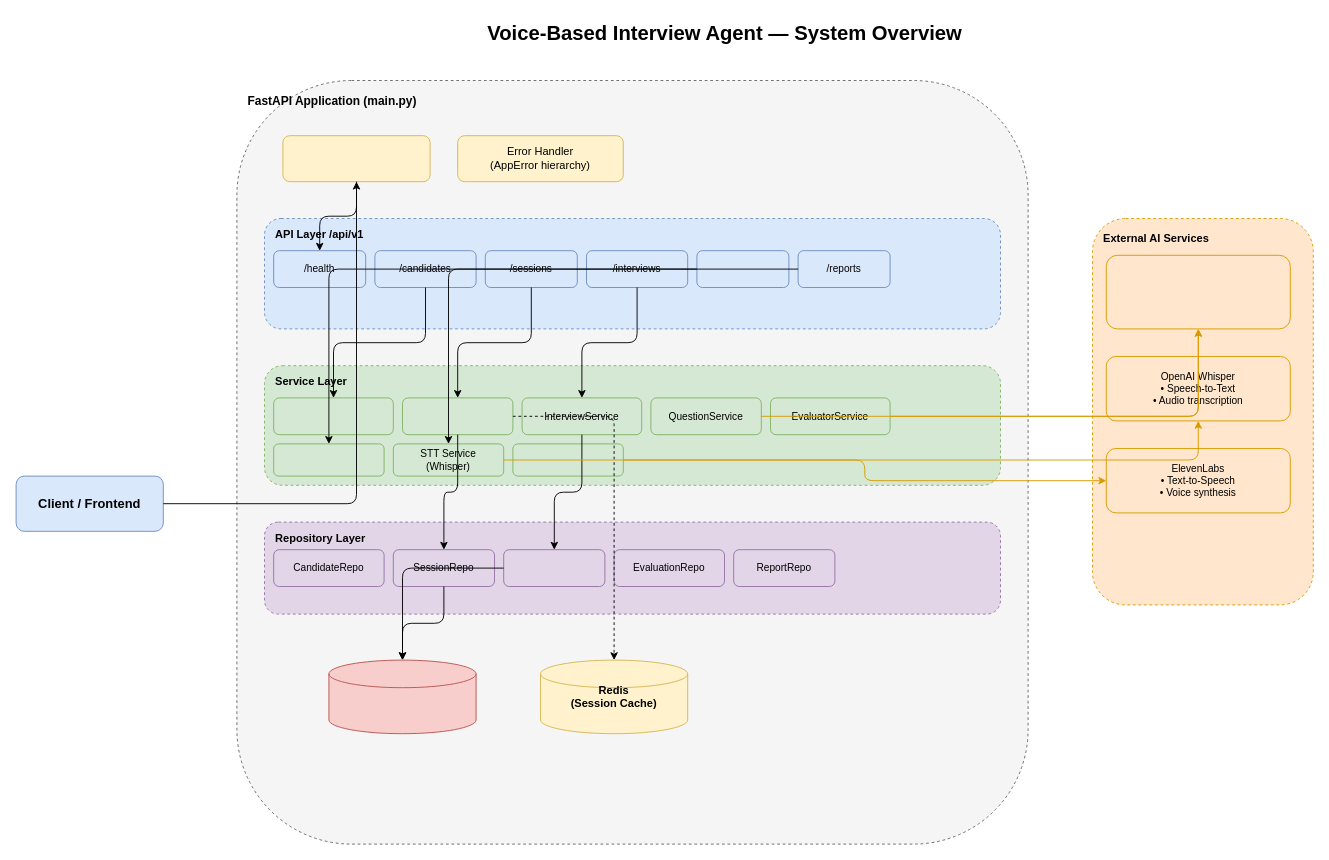
Some shapes in this 1329 by 860 pixel diagram are drawn without their labels. The shapes that lost their labels are listed below. From the top down, each one's centre as x and y in pixels, then its label:
At point 356,158: "Middleware CORS".
At point 742,269: "/speech".
At point 1197,291: "Anthropic Claude • Question Generation • Answer Evaluation • Report Narrative".
At point 333,416: "CandidateService".
At point 457,416: "SessionService".
At point 328,459: "ReportService".
At point 567,459: "TTS Service (ElevenLabs)".
At point 554,567: "RecordRepo".
At point 402,696: "PostgreSQL (SQLAlchemy async)".
